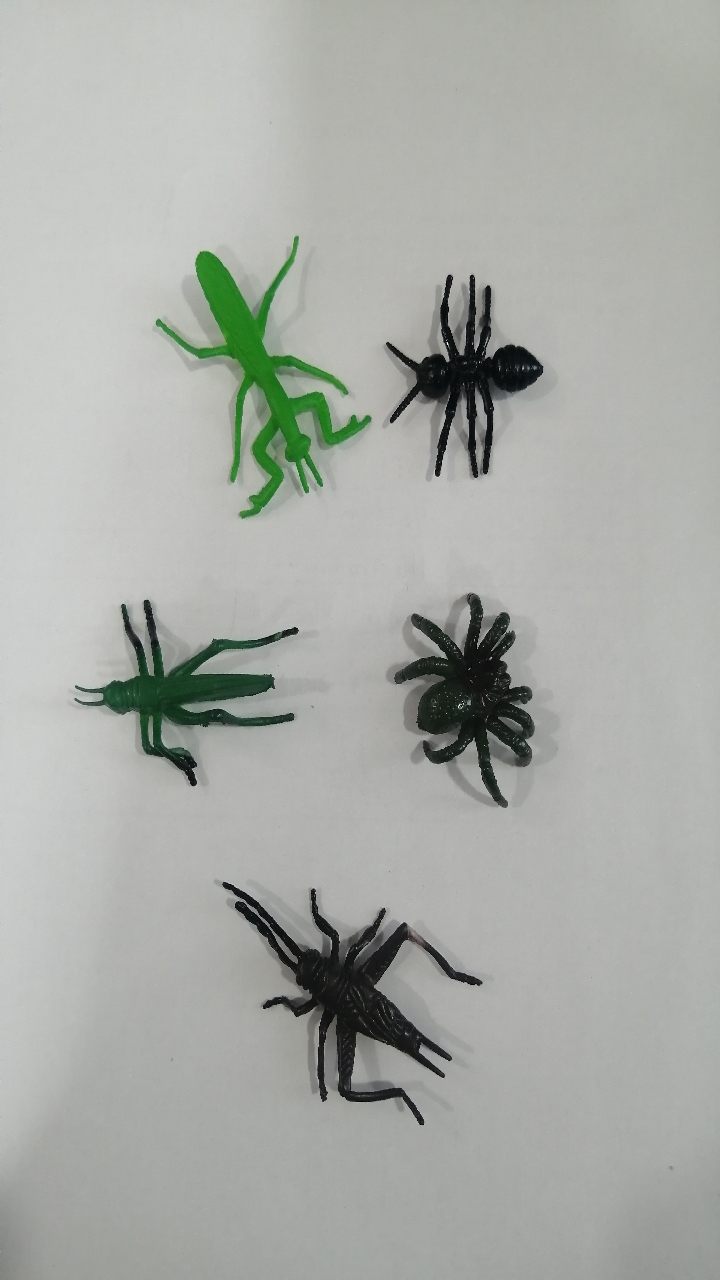intruso: (108, 185, 381, 560), (191, 849, 498, 1166), (41, 577, 318, 814), (361, 566, 564, 843), (358, 251, 575, 489)
